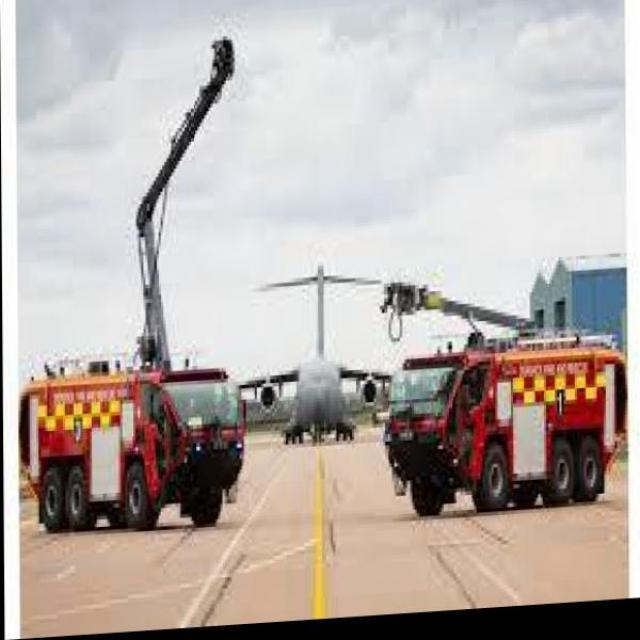emergency: (378, 329, 626, 516), (20, 348, 248, 532)
